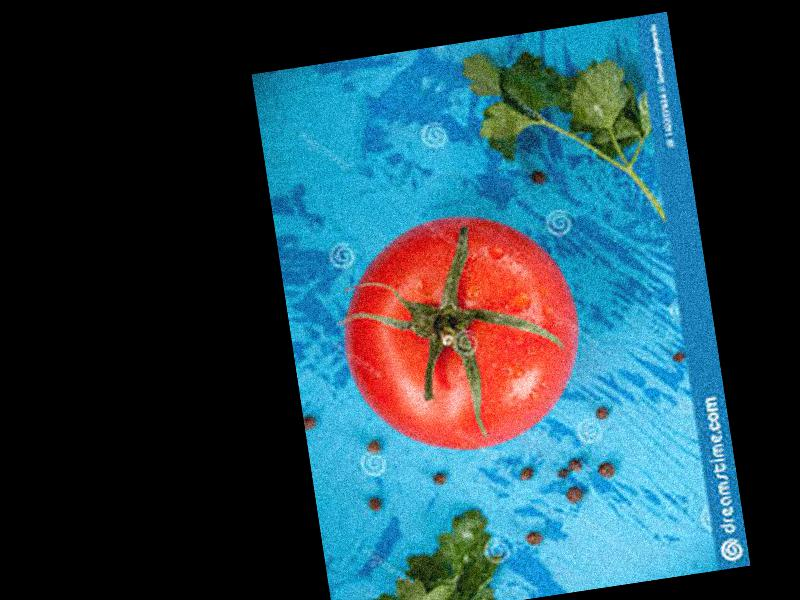Tomato: (329, 200, 594, 465)
